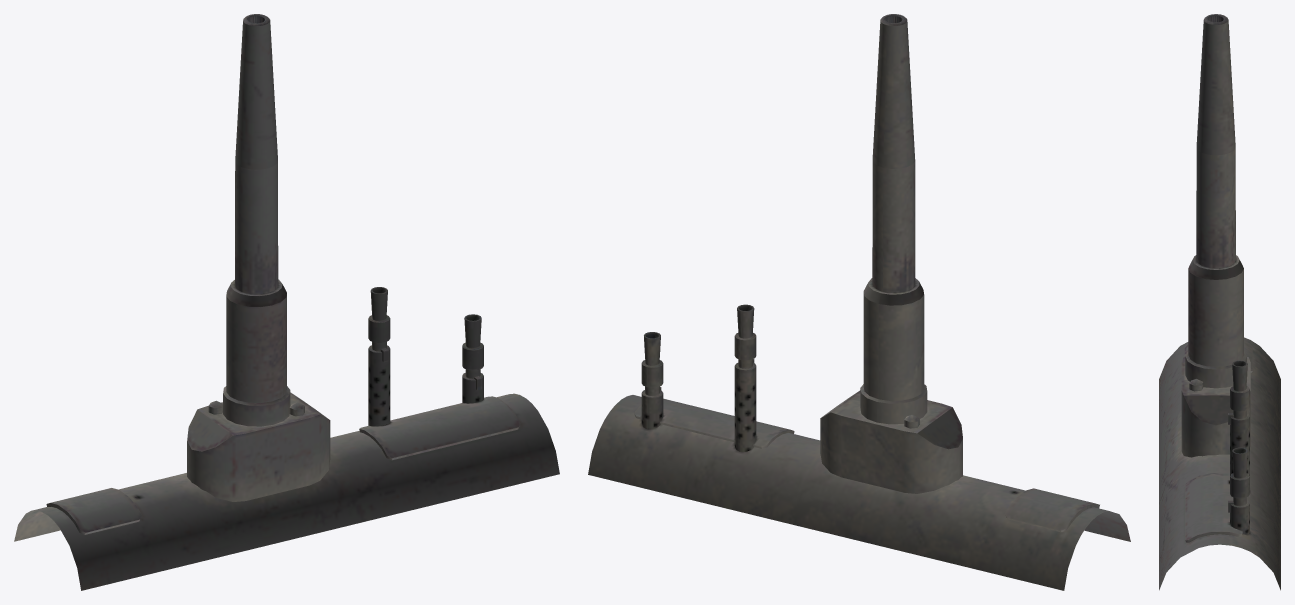
File: Gun_02.glb
3 renders of one model, left to right at view 1: azimuth 30°, elevation 25°; view 2: azimuth 150°, elevation 25°; view 3: azimuth 270°, elevation 25°, orthographic. The views are drawn at different scales.
Parts seen in each view (by area): view 1: set_0_group_0; view 2: set_0_group_0; view 3: set_0_group_0.
Part boxes in pixels (bbox=[...]): set_0_group_0: bbox=[14, 14, 559, 590]; set_0_group_0: bbox=[588, 14, 1130, 590]; set_0_group_0: bbox=[1159, 14, 1280, 590].
Size of the model in its own units: 1.14 by 1.14 by 0.2778.
Materials: 1 (1 with a texture image).
